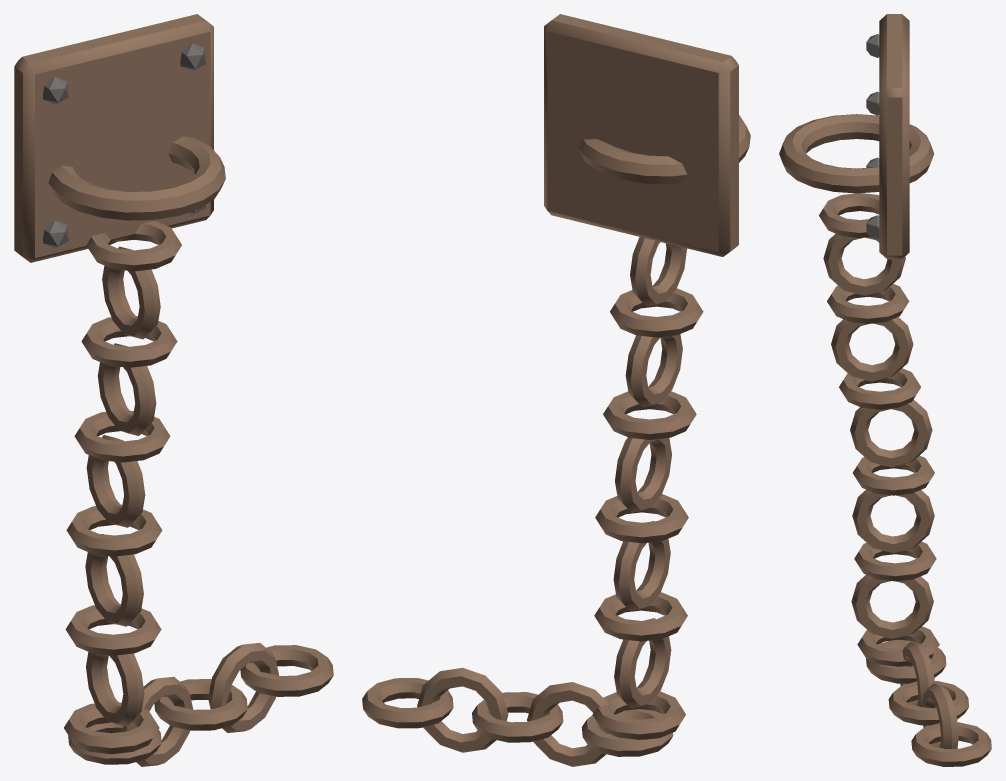
The model's file is chains-v01.glb.
3 renders of one model, left to right at view 1: azimuth 30°, elevation 25°; view 2: azimuth 150°, elevation 25°; view 3: azimuth 270°, elevation 25°, orthographic. The views are drawn at different scales.
Parts seen in each view (by area): view 1: chains; view 2: chains; view 3: chains.
Boxes of the visible parts, left/top/right/bottom form: chains: left=14, top=14, right=333, bottom=766; chains: left=362, top=14, right=750, bottom=766; chains: left=779, top=14, right=991, bottom=766.
Size of the model in its own units: 0.8963 by 1.88 by 0.5619.
